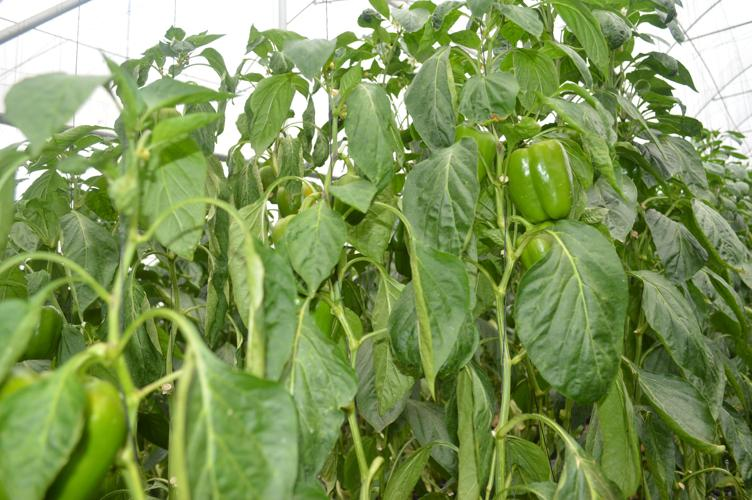BellPepper: (7, 369, 131, 494), (502, 140, 580, 219), (454, 120, 498, 180)
